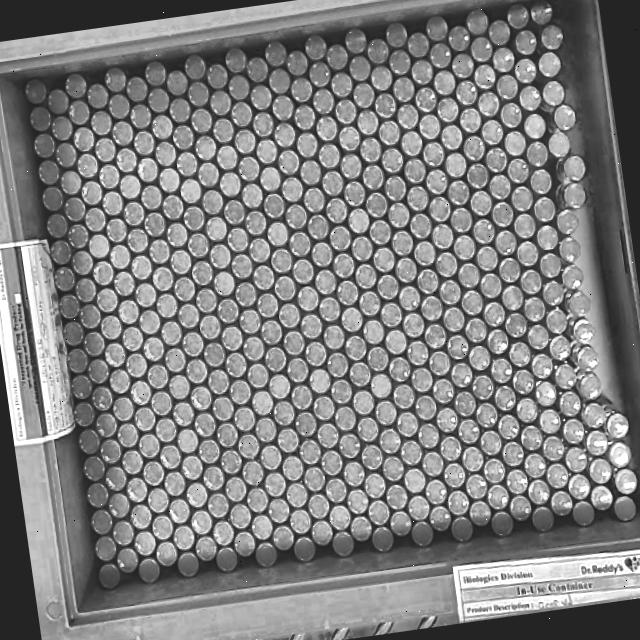vial: (550, 490, 574, 520), (614, 469, 640, 496), (300, 312, 324, 340), (590, 458, 614, 486), (568, 472, 592, 500), (84, 484, 109, 510), (544, 80, 568, 107), (491, 511, 515, 538), (278, 148, 301, 176), (338, 124, 361, 152), (341, 152, 364, 180), (495, 229, 518, 257), (476, 402, 499, 430), (24, 78, 48, 104), (94, 536, 118, 562), (496, 76, 520, 102), (514, 30, 538, 56), (516, 58, 540, 84), (540, 26, 564, 52), (563, 182, 587, 208), (421, 296, 445, 322), (424, 322, 448, 348), (468, 346, 492, 372), (610, 442, 634, 468), (524, 452, 548, 478), (572, 500, 596, 526), (144, 210, 167, 237), (316, 115, 339, 142), (530, 0, 554, 25), (576, 345, 600, 370), (458, 419, 482, 444), (582, 404, 606, 429), (528, 479, 552, 504), (247, 56, 270, 82), (213, 118, 236, 144), (253, 265, 276, 291), (255, 416, 278, 442), (169, 498, 192, 524), (331, 72, 354, 98), (335, 99, 358, 125), (441, 125, 464, 151), (448, 180, 471, 206), (402, 312, 425, 338), (472, 374, 495, 400), (440, 436, 463, 462), (580, 376, 603, 402), (251, 85, 273, 112), (120, 174, 142, 201), (388, 202, 410, 229), (462, 446, 483, 474), (474, 66, 498, 90), (518, 86, 542, 110), (538, 54, 562, 78), (524, 114, 548, 138), (431, 224, 455, 248), (392, 230, 416, 254), (458, 264, 482, 288), (546, 309, 570, 333), (614, 496, 638, 520), (49, 240, 72, 265), (195, 536, 218, 561), (427, 17, 450, 42), (400, 441, 423, 466), (487, 485, 510, 510), (148, 88, 170, 114), (195, 134, 217, 160), (260, 165, 282, 191), (287, 50, 309, 76), (291, 78, 313, 104), (134, 130, 156, 156), (197, 162, 219, 188), (242, 182, 264, 208), (64, 196, 86, 222), (188, 233, 210, 259), (264, 194, 286, 220), (170, 250, 192, 276), (214, 270, 236, 296), (271, 248, 293, 274), (72, 250, 94, 276), (218, 298, 240, 324), (312, 242, 334, 268), (324, 324, 346, 350), (260, 319, 282, 345), (243, 336, 265, 362), (200, 314, 222, 340), (62, 321, 84, 347), (126, 352, 148, 378), (212, 396, 234, 422), (269, 374, 291, 400), (291, 384, 313, 410), (260, 444, 282, 470), (160, 444, 182, 470), (98, 564, 120, 590), (139, 558, 161, 584), (208, 492, 230, 518), (282, 457, 304, 483), (286, 482, 308, 508), (335, 405, 357, 431), (339, 432, 361, 458), (347, 488, 369, 514), (385, 22, 407, 48), (508, 3, 530, 29), (360, 138, 382, 164), (371, 66, 393, 92), (382, 148, 404, 174), (392, 76, 414, 102), (434, 70, 456, 96), (452, 52, 474, 78), (472, 38, 494, 64), (494, 48, 516, 74), (486, 146, 508, 172), (492, 202, 514, 228), (537, 226, 559, 252), (474, 218, 496, 244), (411, 213, 433, 239), (326, 197, 348, 223), (370, 219, 392, 245), (395, 257, 417, 283), (542, 281, 564, 307), (462, 290, 484, 316), (363, 318, 385, 344), (406, 340, 428, 366), (465, 317, 487, 343), (528, 324, 550, 350), (368, 500, 390, 526), (484, 459, 506, 485), (438, 408, 460, 434), (444, 462, 466, 488), (495, 385, 517, 411), (516, 398, 538, 424), (522, 425, 544, 451), (591, 486, 613, 512), (502, 442, 524, 468), (546, 462, 568, 488), (272, 95, 293, 122), (110, 368, 130, 396), (235, 282, 258, 306), (331, 380, 354, 404), (294, 538, 317, 562), (326, 46, 349, 70), (449, 26, 472, 50), (401, 132, 424, 156), (554, 107, 578, 130), (321, 172, 344, 196), (549, 134, 572, 158), (564, 157, 588, 180), (450, 208, 473, 232), (408, 496, 431, 520), (418, 424, 441, 448), (229, 75, 251, 100), (68, 99, 90, 124), (206, 217, 228, 242), (250, 238, 272, 263), (286, 204, 308, 229), (46, 214, 68, 239), (319, 297, 341, 322), (283, 331, 305, 356), (182, 331, 204, 356), (203, 342, 225, 367), (164, 348, 186, 373), (234, 406, 256, 431), (216, 423, 238, 448), (156, 418, 178, 443), (238, 433, 260, 458), (117, 422, 139, 447), (226, 477, 248, 502), (265, 472, 287, 497), (312, 90, 334, 115), (319, 144, 341, 169), (416, 87, 438, 112), (348, 209, 370, 234), (505, 313, 527, 338), (509, 342, 531, 367), (556, 364, 578, 389), (393, 384, 415, 409), (452, 517, 474, 542), (536, 382, 558, 407), (498, 414, 520, 439), (543, 436, 565, 461), (127, 76, 148, 102), (211, 90, 232, 116), (256, 138, 277, 164), (297, 132, 318, 158), (31, 106, 52, 132), (55, 142, 76, 168), (149, 238, 170, 264), (276, 276, 297, 302), (58, 294, 79, 320), (169, 374, 190, 400), (310, 368, 331, 394), (67, 348, 88, 374), (88, 359, 109, 385), (131, 380, 152, 406), (177, 428, 198, 454), (78, 429, 99, 455), (291, 508, 312, 534), (412, 60, 433, 86), (515, 214, 536, 240), (398, 284, 419, 310), (447, 334, 468, 360), (533, 506, 554, 532), (479, 92, 499, 119), (104, 68, 126, 92), (185, 56, 207, 80), (207, 65, 229, 89), (188, 82, 210, 106), (238, 156, 260, 180), (220, 172, 242, 196), (138, 158, 160, 182), (98, 165, 120, 189), (37, 160, 59, 184), (41, 188, 63, 212), (106, 218, 128, 242), (224, 201, 246, 225), (246, 211, 268, 235), (268, 224, 290, 248), (93, 261, 115, 285), (196, 289, 218, 313), (297, 286, 319, 310), (278, 304, 300, 328), (221, 326, 243, 350), (122, 327, 144, 351), (288, 359, 310, 383), (328, 354, 350, 378), (70, 375, 92, 399), (139, 434, 161, 458), (134, 532, 156, 556), (192, 510, 214, 534), (204, 466, 226, 490), (300, 440, 322, 464), (344, 30, 366, 54), (467, 10, 489, 34), (390, 50, 412, 74), (424, 142, 446, 166), (460, 108, 482, 132), (482, 120, 504, 144), (504, 131, 526, 155), (304, 188, 326, 212), (408, 188, 430, 212), (404, 159, 426, 183), (467, 164, 489, 188), (530, 170, 552, 194), (558, 210, 580, 234), (373, 250, 395, 274), (454, 236, 476, 260), (502, 286, 524, 310), (550, 338, 572, 362), (532, 354, 554, 378), (371, 373, 393, 397), (375, 400, 397, 424), (372, 528, 394, 552), (608, 414, 630, 438), (587, 432, 609, 456), (566, 448, 588, 472), (506, 470, 528, 494), (510, 496, 532, 520), (232, 103, 253, 128), (91, 110, 112, 135), (177, 152, 198, 177), (85, 207, 106, 232), (163, 195, 184, 220), (228, 227, 249, 252), (89, 234, 110, 259), (131, 255, 152, 280), (54, 267, 75, 292), (316, 270, 337, 295), (305, 342, 326, 367), (187, 359, 208, 384), (84, 332, 105, 357), (314, 396, 335, 421), (173, 402, 194, 427), (195, 413, 216, 438), (200, 440, 221, 465), (74, 402, 95, 427), (84, 457, 105, 482), (117, 548, 138, 573), (165, 472, 186, 497), (308, 494, 329, 519), (457, 81, 478, 106), (490, 175, 511, 200), (361, 445, 382, 470), (481, 432, 502, 457), (34, 132, 54, 158), (103, 190, 123, 216), (232, 253, 252, 279), (156, 292, 176, 318), (266, 346, 286, 372), (252, 390, 272, 416), (152, 390, 172, 416), (248, 487, 268, 513), (252, 514, 272, 540), (256, 543, 276, 569), (278, 427, 298, 453), (380, 120, 400, 146), (528, 140, 548, 166), (518, 242, 538, 268), (414, 240, 434, 266), (482, 274, 502, 300), (444, 306, 464, 332), (338, 280, 358, 306), (354, 390, 374, 416), (358, 416, 378, 442), (398, 412, 418, 438), (469, 502, 489, 528), (66, 74, 88, 97), (152, 115, 174, 138), (282, 177, 304, 200), (294, 106, 316, 129), (74, 279, 96, 302), (292, 261, 314, 284), (230, 505, 252, 528), (427, 170, 449, 193), (471, 192, 493, 215), (535, 197, 557, 220), (439, 280, 462, 302), (568, 293, 590, 316), (541, 409, 563, 432), (48, 90, 69, 114), (145, 61, 166, 85), (167, 71, 188, 95), (226, 48, 247, 72), (131, 104, 152, 128), (108, 94, 129, 118), (253, 113, 274, 137), (300, 162, 321, 186), (95, 137, 116, 161), (202, 190, 223, 214), (60, 171, 81, 195), (82, 180, 103, 204), (183, 207, 204, 231), (289, 232, 310, 256), (110, 244, 131, 268), (96, 288, 117, 312), (226, 353, 247, 377), (101, 316, 122, 340), (191, 387, 212, 411), (248, 364, 269, 388), (105, 467, 126, 491), (91, 510, 112, 534), (174, 526, 195, 550), (213, 522, 234, 546), (217, 548, 238, 572), (344, 462, 365, 486), (357, 112, 378, 136), (431, 43, 452, 67), (500, 104, 521, 128), (429, 198, 450, 222), (540, 254, 561, 278), (521, 270, 542, 294), (524, 298, 545, 322), (484, 302, 505, 326), (358, 292, 379, 316), (386, 330, 407, 354), (430, 352, 451, 376), (491, 359, 512, 383), (451, 364, 472, 388), (411, 368, 432, 392), (415, 395, 436, 419), (390, 512, 411, 536), (387, 485, 408, 509), (412, 522, 433, 546), (447, 490, 468, 514), (422, 452, 443, 476), (275, 123, 295, 148), (78, 153, 98, 178), (192, 260, 212, 285), (92, 386, 112, 411), (114, 396, 134, 421), (134, 407, 154, 432), (102, 440, 122, 465), (188, 482, 208, 507), (270, 499, 290, 524), (352, 517, 372, 542), (310, 62, 330, 87), (398, 104, 418, 129), (488, 330, 508, 355), (368, 346, 388, 371), (434, 379, 454, 404), (384, 457, 404, 482), (431, 507, 451, 532), (560, 392, 580, 417), (306, 216, 328, 238), (242, 462, 264, 484), (130, 505, 152, 527), (173, 126, 194, 149), (73, 127, 94, 150), (142, 186, 163, 209), (124, 203, 145, 226), (258, 294, 279, 317), (230, 380, 251, 403), (157, 542, 178, 565), (178, 553, 199, 576), (354, 83, 375, 106), (512, 188, 533, 211), (330, 227, 351, 250), (352, 237, 373, 260), (88, 84, 108, 108), (192, 110, 212, 134), (236, 129, 256, 153), (218, 147, 238, 171), (270, 70, 290, 94), (112, 121, 132, 145), (156, 142, 176, 166), (52, 116, 72, 140), (160, 168, 180, 192), (181, 178, 201, 202), (128, 228, 148, 252), (167, 223, 187, 247), (68, 224, 88, 248), (210, 244, 230, 268), (114, 271, 134, 295), (136, 283, 156, 307), (118, 300, 138, 324), (240, 310, 260, 334), (180, 303, 200, 327), (162, 322, 182, 346), (80, 306, 100, 330), (144, 338, 164, 362), (148, 364, 168, 388), (296, 412, 316, 436), (274, 402, 294, 426), (222, 450, 242, 474), (96, 414, 116, 438), (122, 450, 142, 474), (128, 478, 148, 502), (109, 494, 129, 518), (148, 488, 168, 512), (153, 516, 173, 540), (236, 533, 256, 557), (274, 526, 294, 550), (312, 520, 332, 544), (306, 468, 326, 492), (322, 450, 342, 474), (334, 532, 354, 556), (306, 35, 326, 59), (350, 56, 370, 80), (376, 94, 396, 118), (438, 98, 458, 122), (464, 136, 484, 160), (345, 182, 365, 206), (334, 254, 354, 278), (356, 264, 376, 288), (378, 275, 398, 299), (500, 258, 520, 282), (382, 304, 402, 328), (342, 308, 362, 332), (574, 319, 594, 343), (513, 370, 533, 394), (390, 358, 410, 382), (346, 334, 366, 358), (349, 362, 369, 386), (366, 474, 386, 498), (380, 429, 400, 453), (406, 468, 426, 492), (467, 474, 487, 498), (564, 420, 584, 444), (438, 252, 457, 277), (153, 268, 174, 290), (563, 266, 584, 288), (477, 248, 498, 270), (171, 99, 191, 122), (266, 43, 286, 66), (140, 311, 160, 334), (183, 456, 203, 479), (318, 424, 338, 447), (326, 479, 346, 502), (330, 506, 350, 529), (490, 22, 510, 45), (364, 167, 384, 190), (420, 114, 440, 137), (446, 154, 466, 177), (367, 195, 387, 218), (418, 270, 438, 293), (456, 392, 476, 415), (428, 480, 447, 504), (117, 148, 137, 170), (175, 278, 195, 300), (144, 462, 164, 484), (409, 34, 429, 56), (508, 160, 528, 182), (560, 240, 580, 262), (369, 41, 388, 64), (386, 177, 405, 200), (106, 343, 124, 367), (210, 370, 228, 392), (114, 522, 132, 544)
